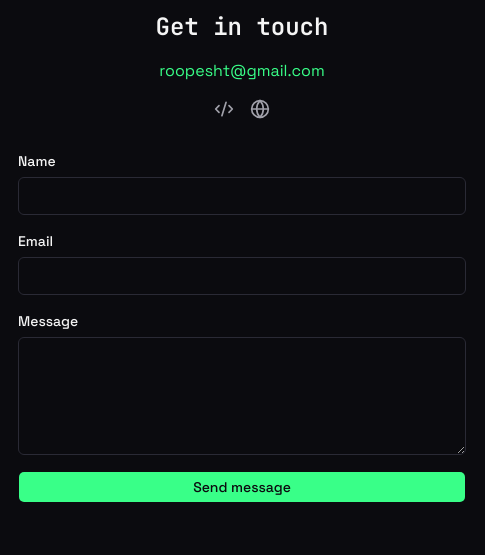
Scenario: Contact (ST-057, ST-058, ST-059) › shows an error message when the submission fails
Type "Ada Lovelace" into the field labelled "Name" at (242, 196), box [18,177,466,215]
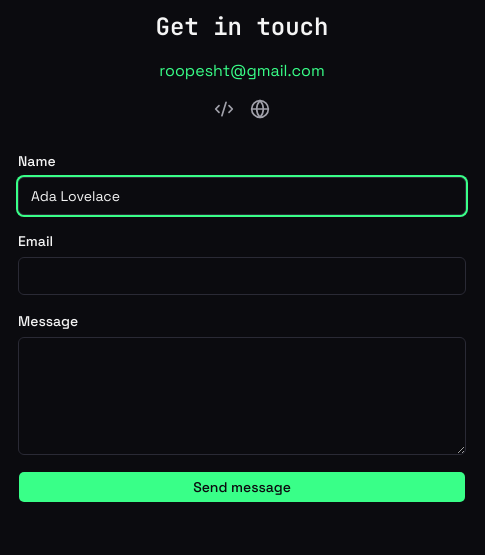
Type "ada@example.com" into the field labelled "Email" at (242, 276), box [18,257,466,295]
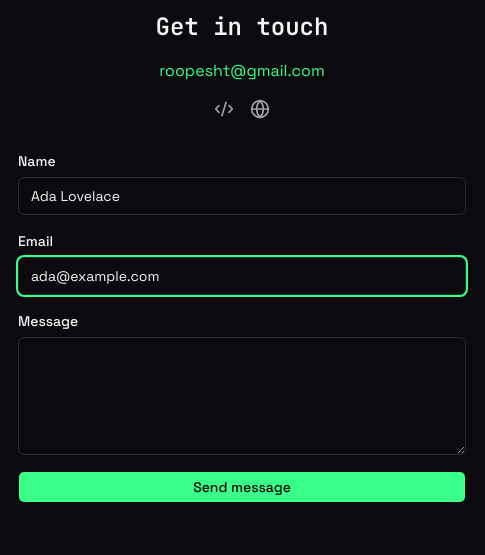
Type "Hello!" into the text box labelled "Message" at (242, 396), box [18,337,466,455]
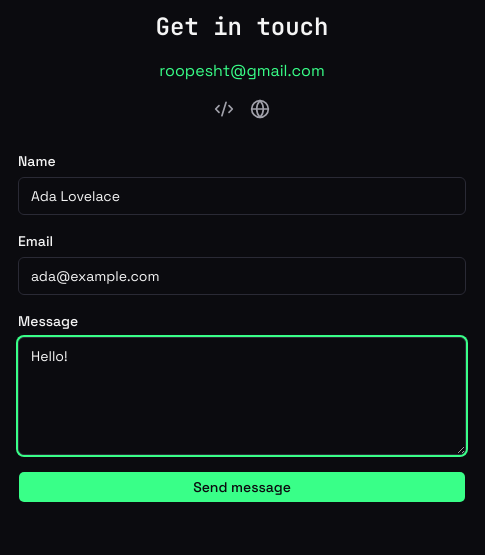
Click the button "Send message" at (242, 487), box [18,471,466,503]
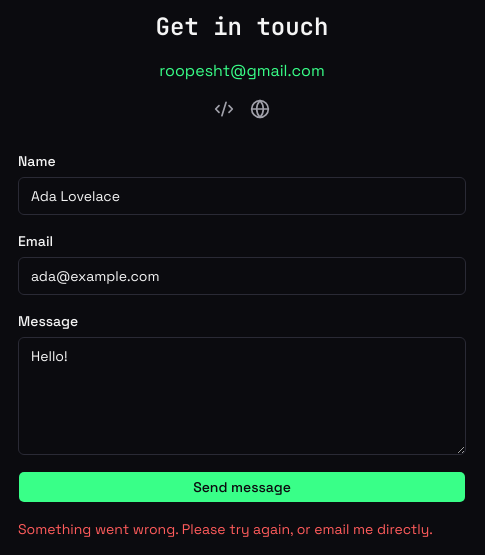
Now the message shows "Something went wrong", box [18,520,433,538]
